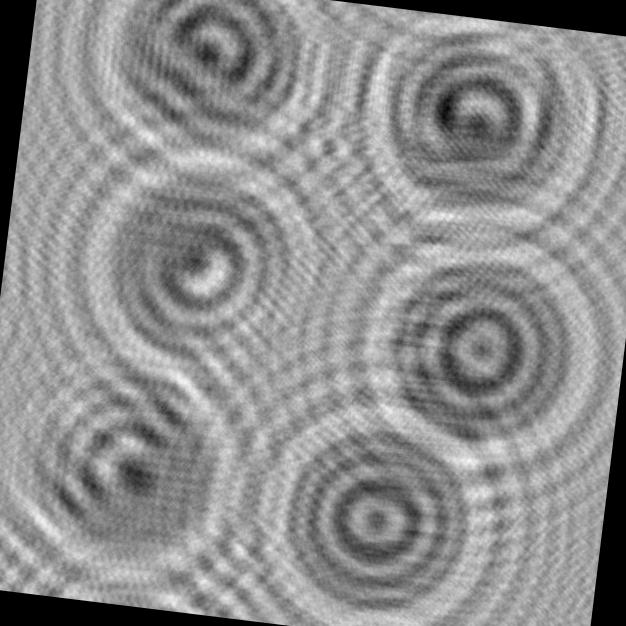C: (26, 114, 361, 428)
D: (39, 0, 374, 226)
G: (328, 3, 626, 276)
O: (212, 360, 539, 626)
Q: (290, 181, 626, 513)
U: (0, 315, 285, 620)
